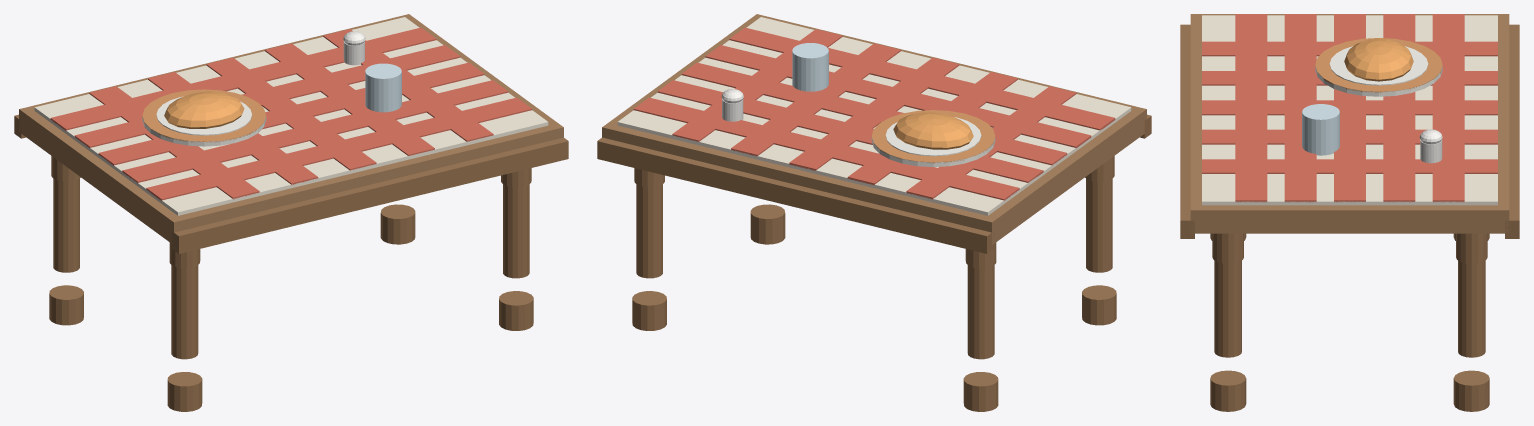
Rendered from Mesa_Comensal.fbx.
3 renders of one model, left to right at view 1: azimuth 30°, elevation 25°; view 2: azimuth 150°, elevation 25°; view 3: azimuth 270°, elevation 25°, orthographic. The views are drawn at different scales.
Parts seen in each view (by area): view 1: Mantel_Base, Mesa_Top, Mesa_Edge_F, Stripe_H_1, Stripe_H_0, Stripe_H_4, Stripe_H_3, Stripe_H_2, Stripe_V_2, Stripe_V_3, Stripe_V_0, Leg_-6_-4_mid (+14 smaller); view 2: Mantel_Base, Mesa_Top, Mesa_Edge_B, Stripe_H_4, Stripe_H_1, Stripe_H_3, Stripe_H_0, Stripe_H_2, Stripe_V_3, Stripe_V_2, Stripe_V_4, Stripe_V_0 (+14 smaller); view 3: Mantel_Base, Mesa_Top, Stripe_H_4, Stripe_H_1, Stripe_H_0, Stripe_H_3, Stripe_H_2, Stripe_V_4, Stripe_V_2, Leg_6_-4_mid, Leg_6_4_mid, Stripe_V_0 (+14 smaller).
Part boxes in pixels (box(x1,y1,x2,y2)): Mantel_Base: box(34, 17, 548, 215); Mesa_Top: box(19, 14, 563, 243); Mesa_Edge_F: box(171, 137, 568, 253); Stripe_H_1: box(122, 80, 508, 183); Stripe_H_0: box(146, 97, 532, 200); Stripe_H_4: box(50, 27, 436, 130); Stripe_H_3: box(74, 45, 460, 147); Stripe_H_2: box(98, 62, 484, 165); Stripe_V_2: box(206, 57, 376, 170); Stripe_V_3: box(264, 43, 434, 155); Stripe_V_0: box(89, 86, 259, 199); Leg_-6_-4_mid: box(171, 265, 198, 359); Mantel_Base: box(617, 17, 1131, 215); Mesa_Top: box(602, 14, 1146, 244); Mesa_Edge_B: box(597, 137, 994, 253); Stripe_H_4: box(633, 97, 1019, 200); Stripe_H_1: box(705, 45, 1091, 148); Stripe_H_3: box(657, 80, 1043, 182); Stripe_H_0: box(729, 27, 1115, 130); Stripe_H_2: box(681, 62, 1067, 165); Stripe_V_3: box(731, 43, 901, 156); Stripe_V_2: box(789, 57, 959, 170); Stripe_V_4: box(672, 29, 842, 141); Stripe_V_0: box(906, 86, 1076, 199); Mantel_Base: box(1202, 15, 1497, 205); Mesa_Top: box(1190, 14, 1509, 233); Stripe_H_4: box(1432, 14, 1464, 202); Stripe_H_1: box(1284, 14, 1316, 202); Stripe_H_0: box(1235, 14, 1267, 202); Stripe_H_3: box(1383, 14, 1415, 202); Stripe_H_2: box(1334, 14, 1365, 202); Stripe_V_4: box(1202, 159, 1497, 173); Stripe_V_2: box(1202, 100, 1497, 115); Leg_6_-4_mid: box(1214, 260, 1241, 357); Leg_6_4_mid: box(1458, 260, 1485, 357); Stripe_V_0: box(1202, 41, 1497, 56).
Bounding box in the file's own units: 1.6 × 0.945 × 1.17.
